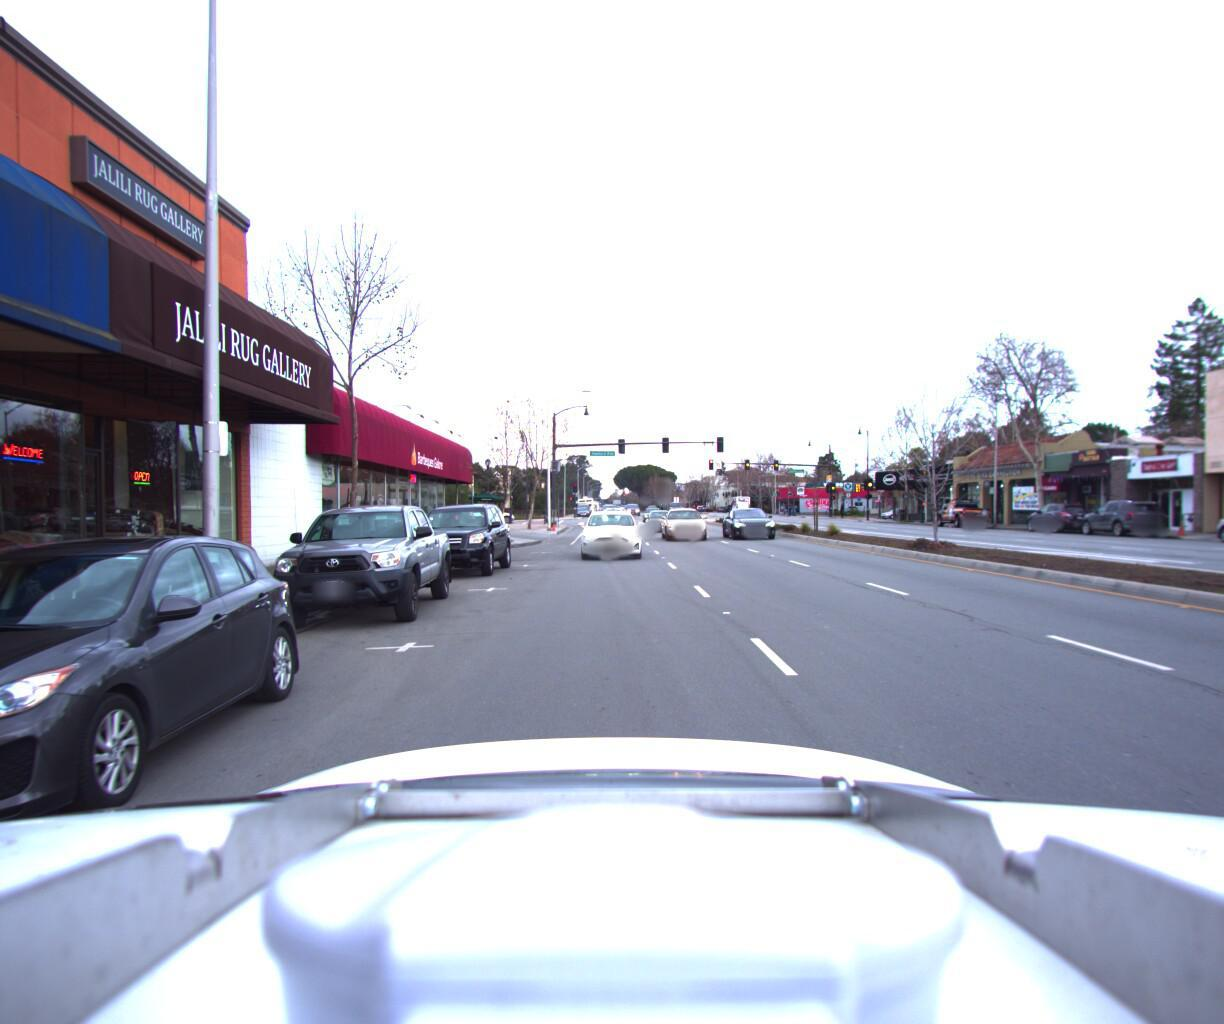car: (0, 527, 321, 930), (258, 498, 456, 638), (400, 500, 517, 577), (567, 499, 646, 559), (1079, 497, 1170, 536), (724, 504, 790, 540), (933, 493, 996, 527), (1025, 500, 1096, 530), (661, 505, 711, 540), (641, 506, 675, 531), (467, 503, 514, 520), (1212, 495, 1224, 548), (599, 496, 623, 519)
